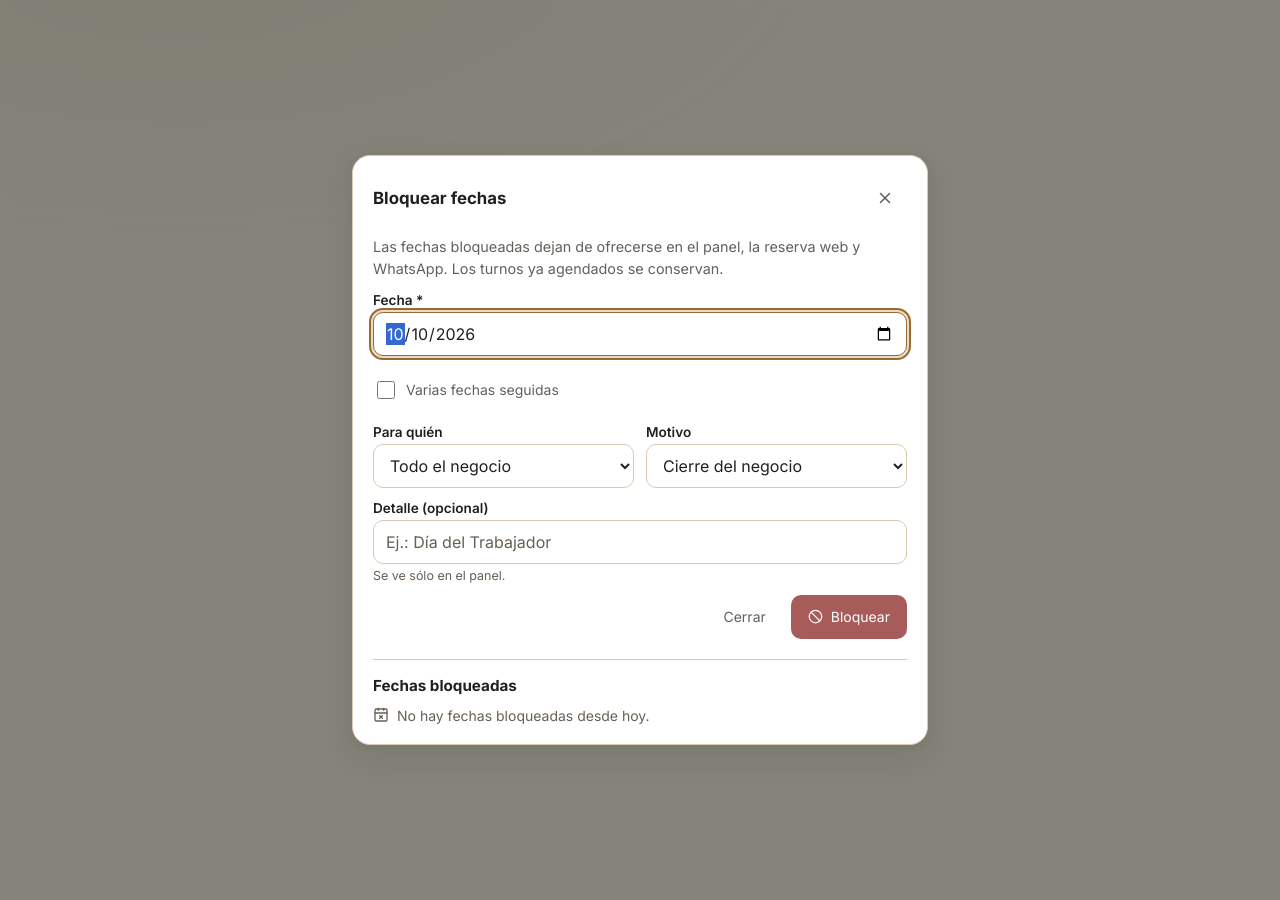
Test: BloqueosModal › guarda un bloqueo de profesional y anuncia el éxito sólo después de guardar
Select "Lucas" in the dropdown labelled "Para quién" at (504, 466), box [373,444,634,488]
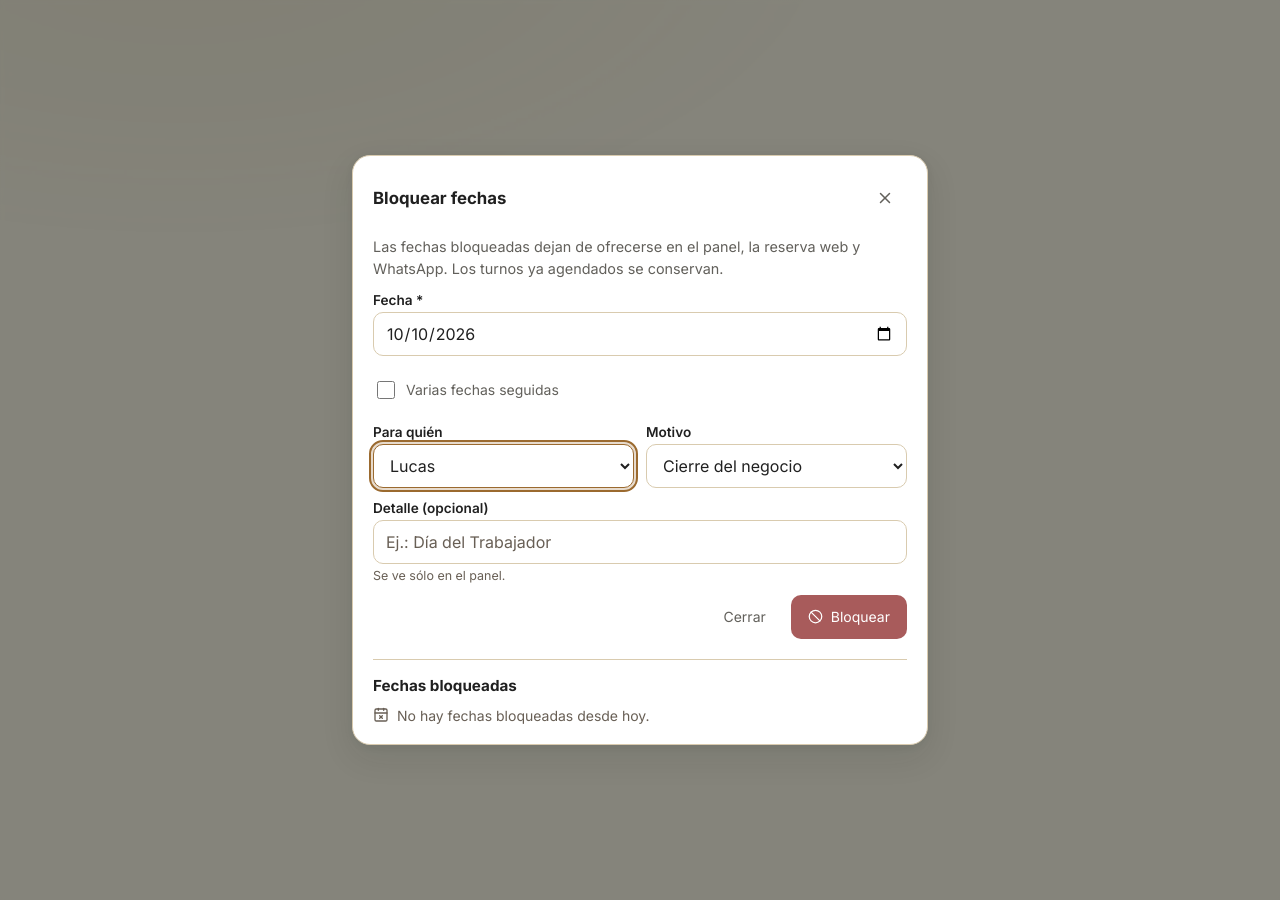
Select "Vacaciones" in the dropdown labelled "Motivo" at (776, 466), box [646,444,907,488]
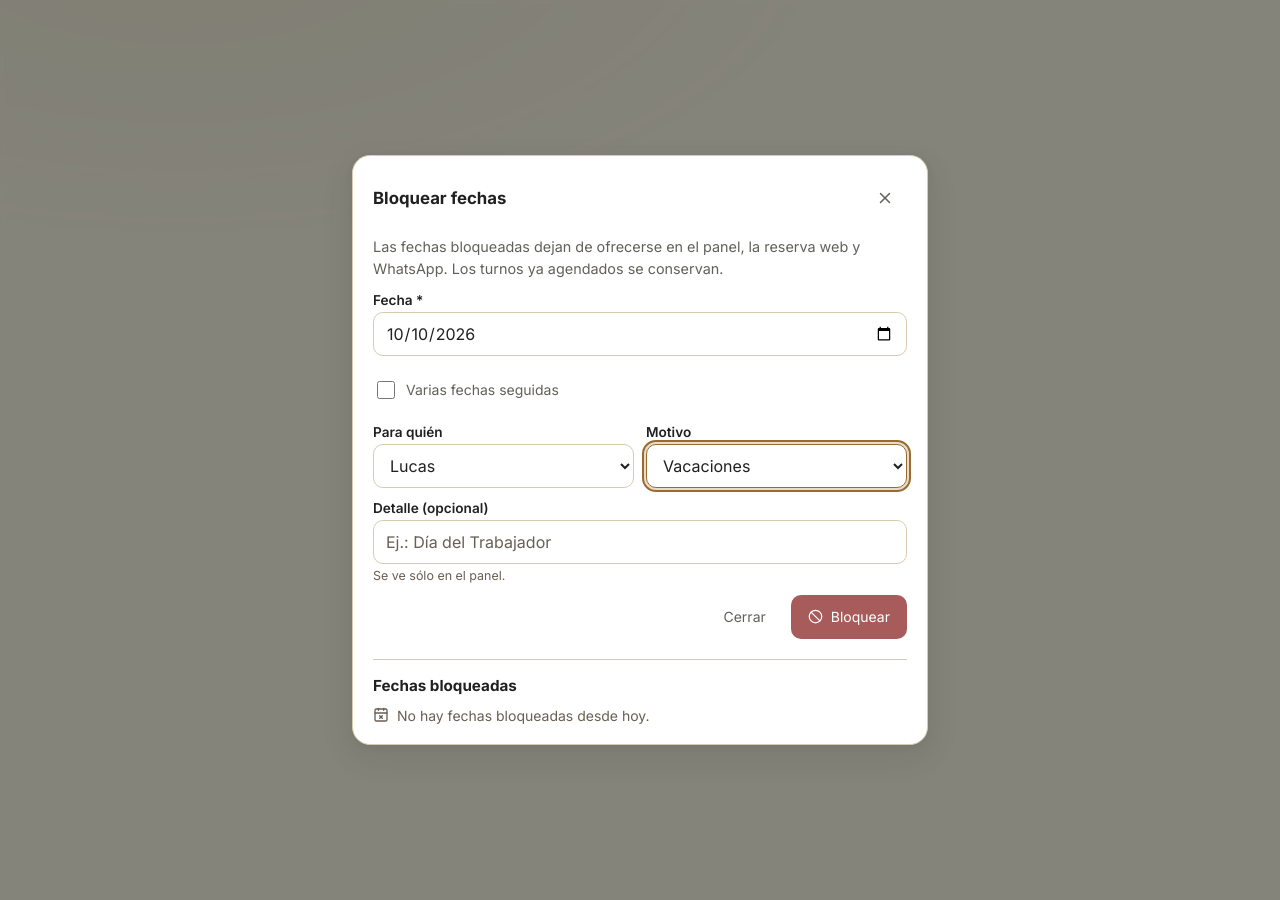
Click the button "Bloquear" at (849, 617), box [791,595,907,639]
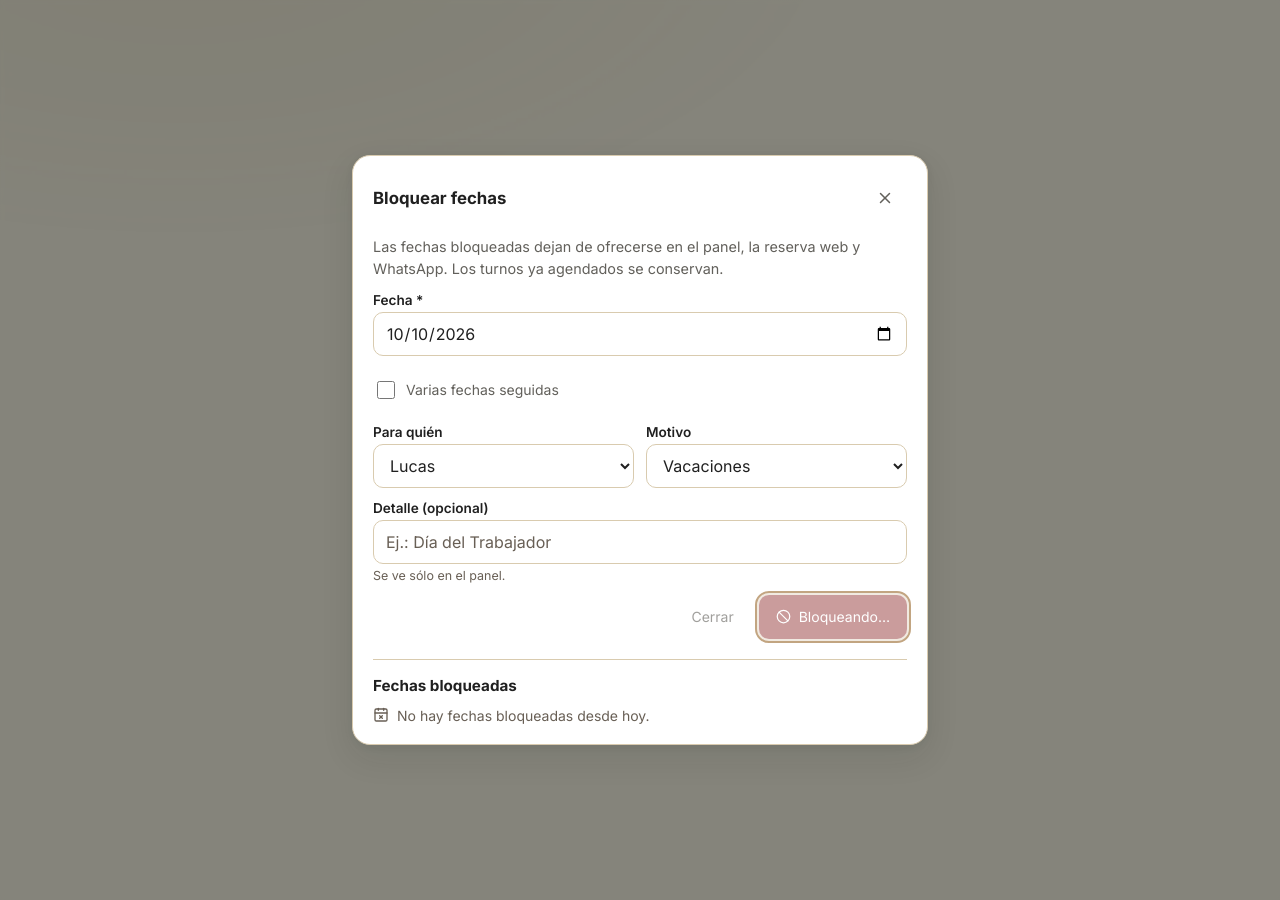
Expected: the text "Bloqueado el" is not shown
Expected: the button "Bloqueando…" is shown
# Doble clic mientras guarda: no se envía dos veces.
Click the button "Bloqueando…" at (833, 617), box [759,595,907,639]
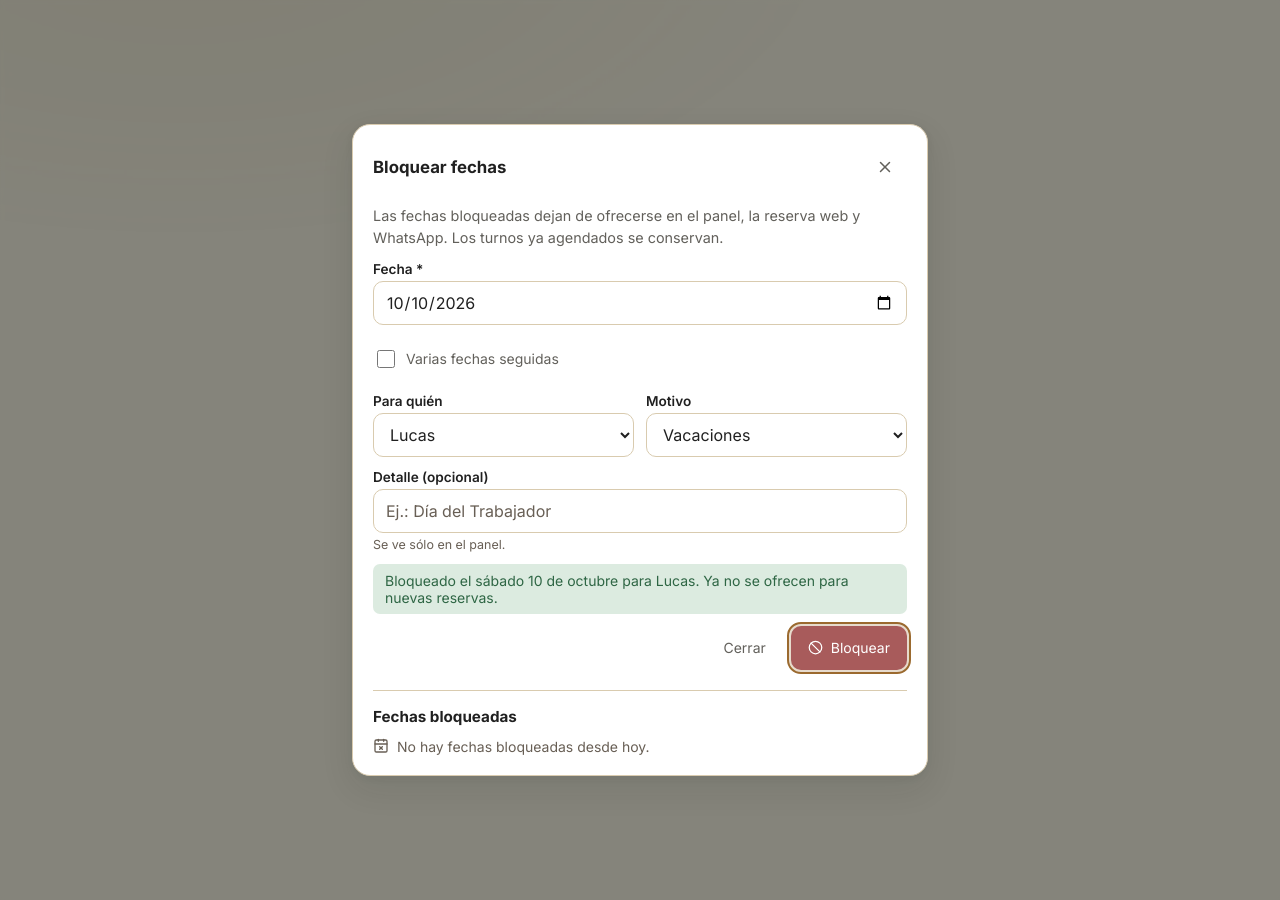
Expected: the text "Bloqueado el sábado 10 de octubre para Lucas" is shown, [385,572,849,606]
